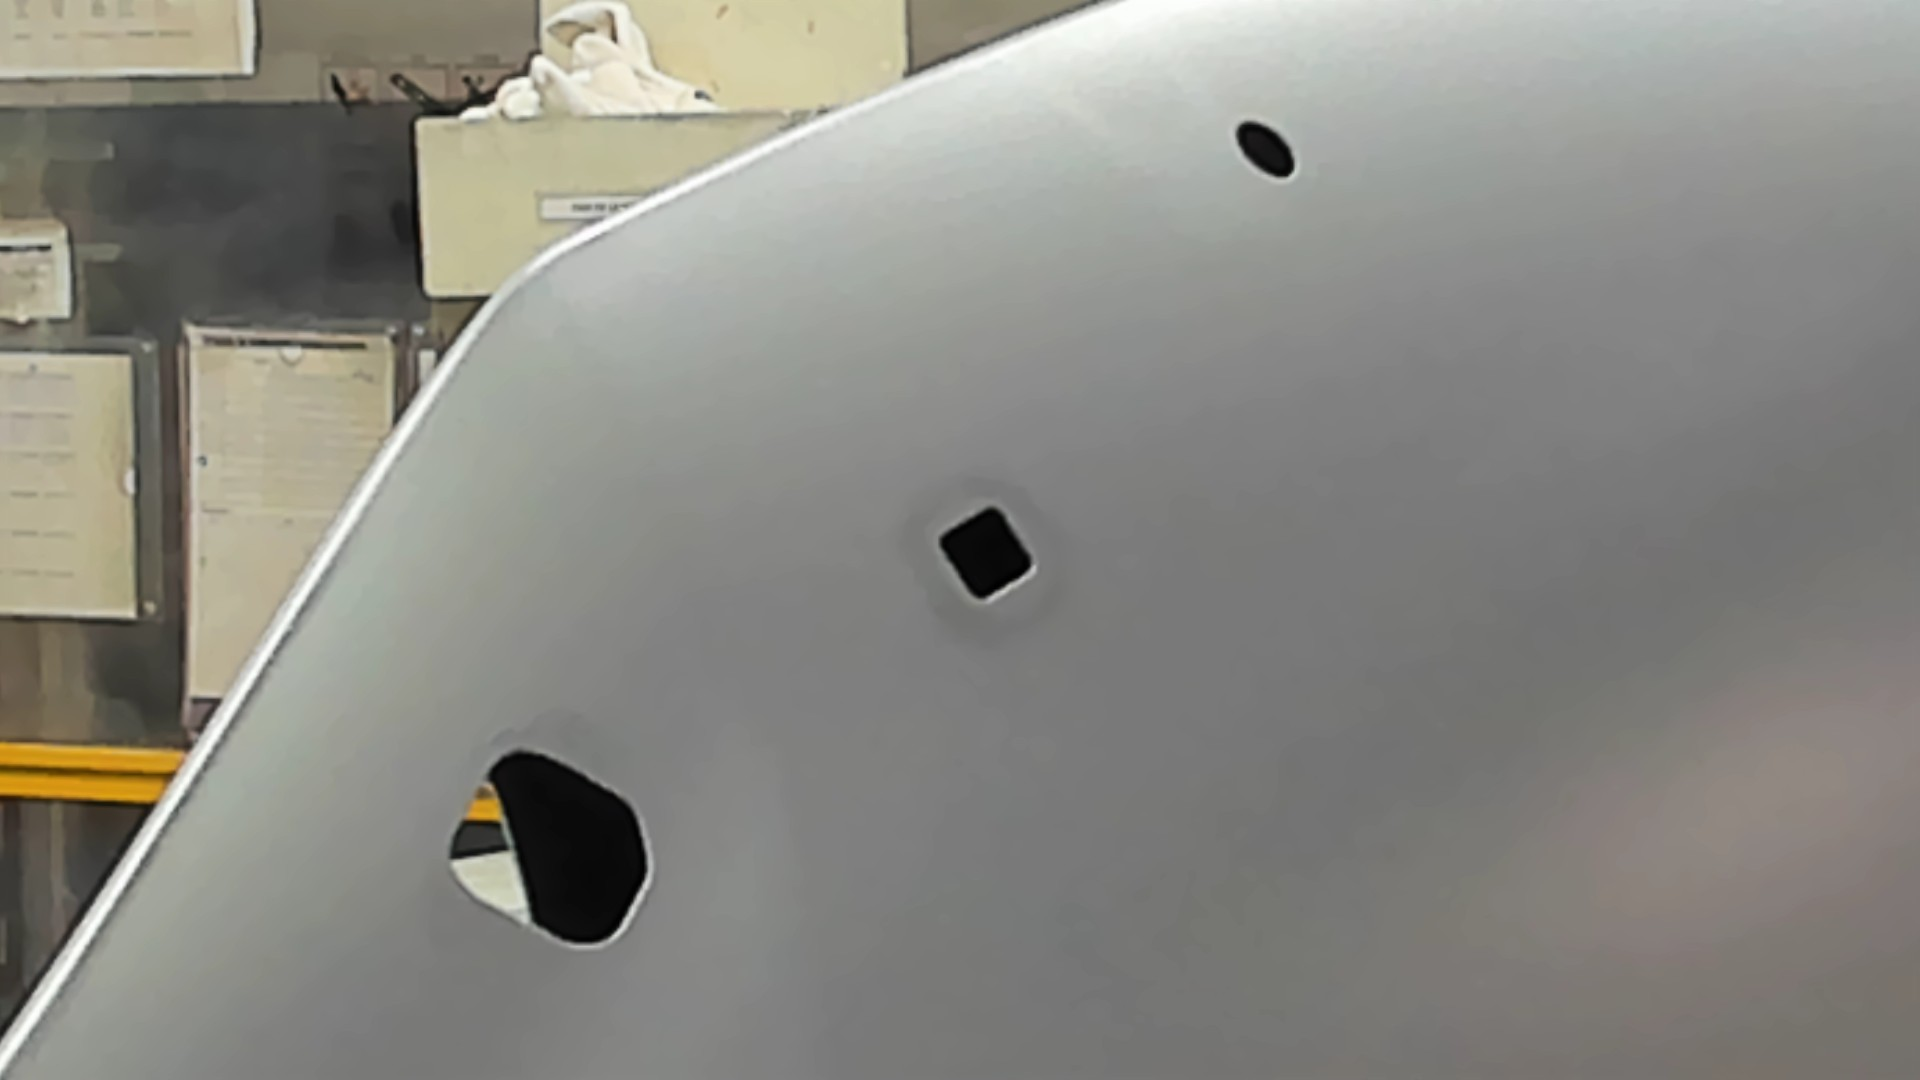chico: (1234, 117, 1300, 183)
grande: (446, 746, 659, 953)
mediano: (936, 502, 1038, 605)
